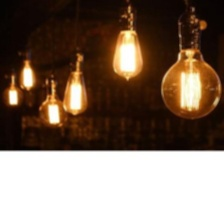light_bulb: (159, 10, 224, 122), (107, 5, 153, 80), (51, 53, 94, 121), (34, 87, 74, 138), (9, 57, 40, 95), (3, 81, 27, 105)
